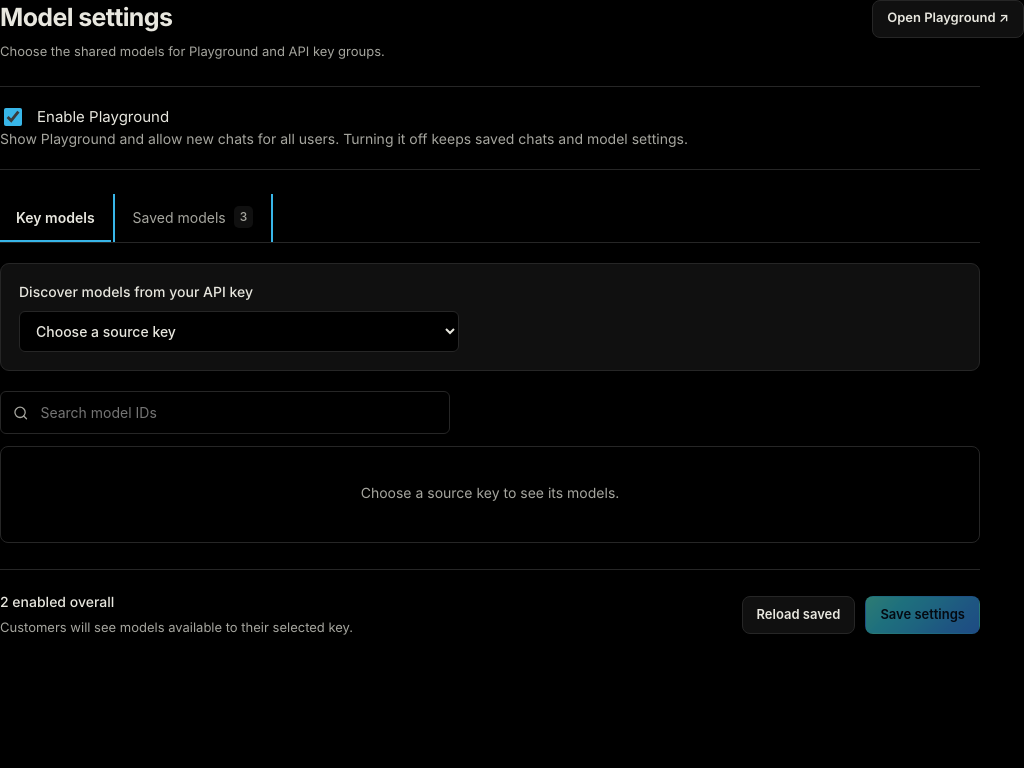
admin model settings › stages clearing identity independently from model enablement
The width and height of the screenshot is (1024, 768).
Click the tab "Saved models 3": (193, 218) x1=117 y1=194 x2=269 y2=242
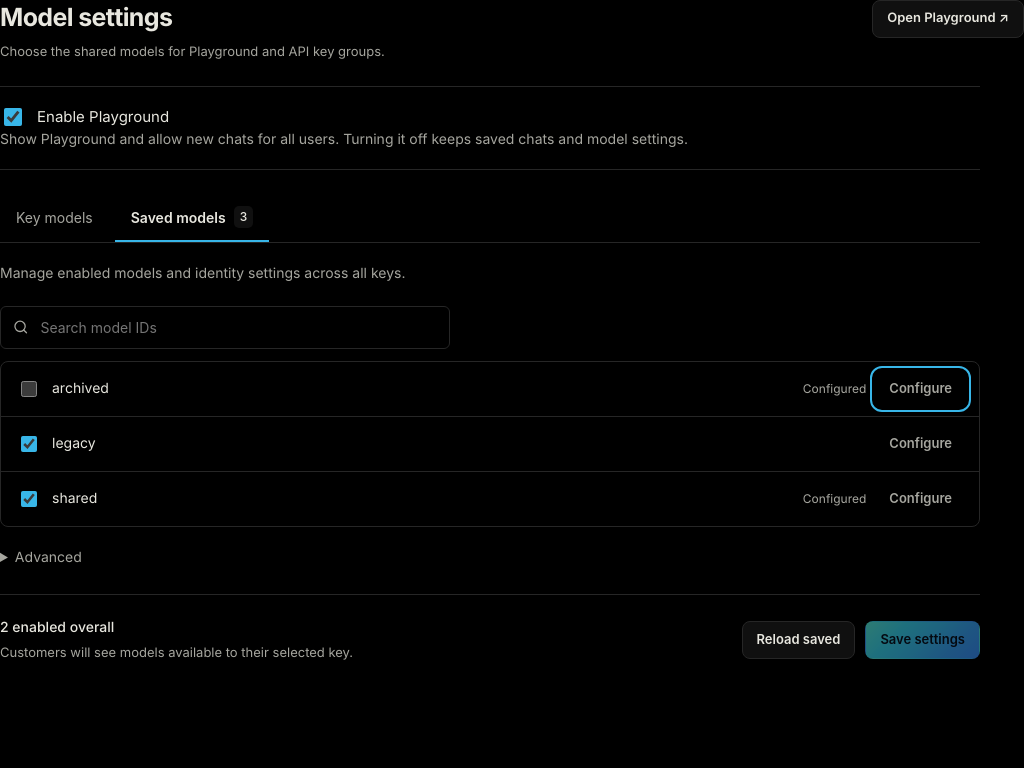
Click the button "Configure" in the row of "archived": (921, 389) x1=874 y1=370 x2=967 y2=408
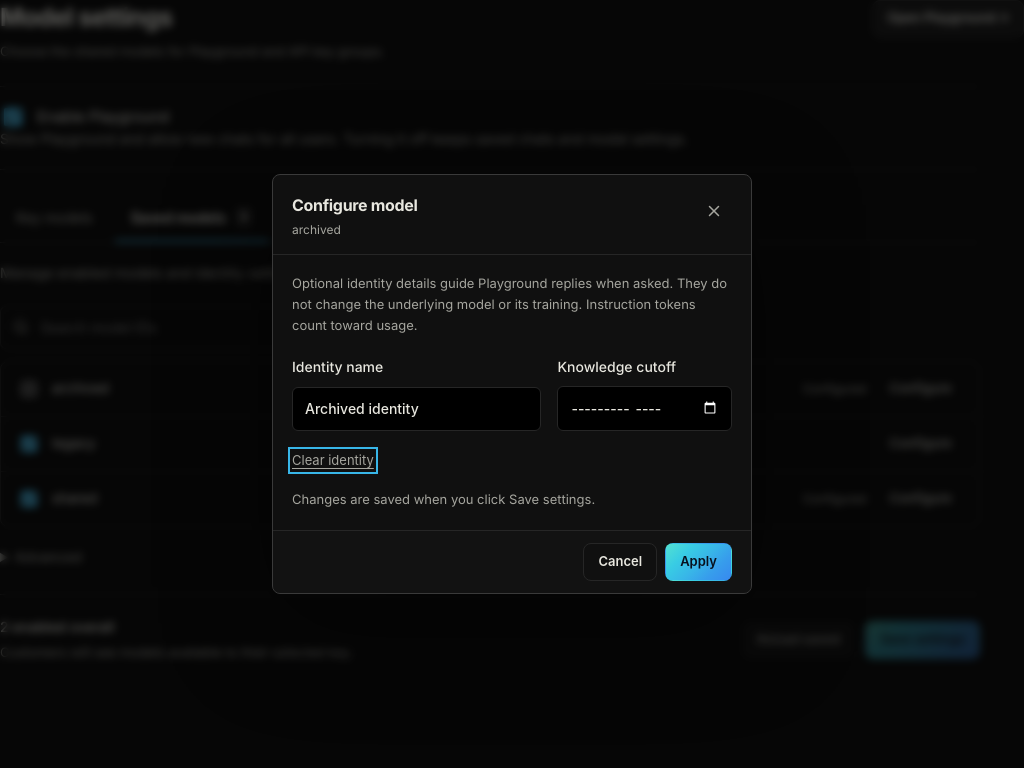
Click the button "Clear identity": (333, 460) x1=292 y1=450 x2=374 y2=470
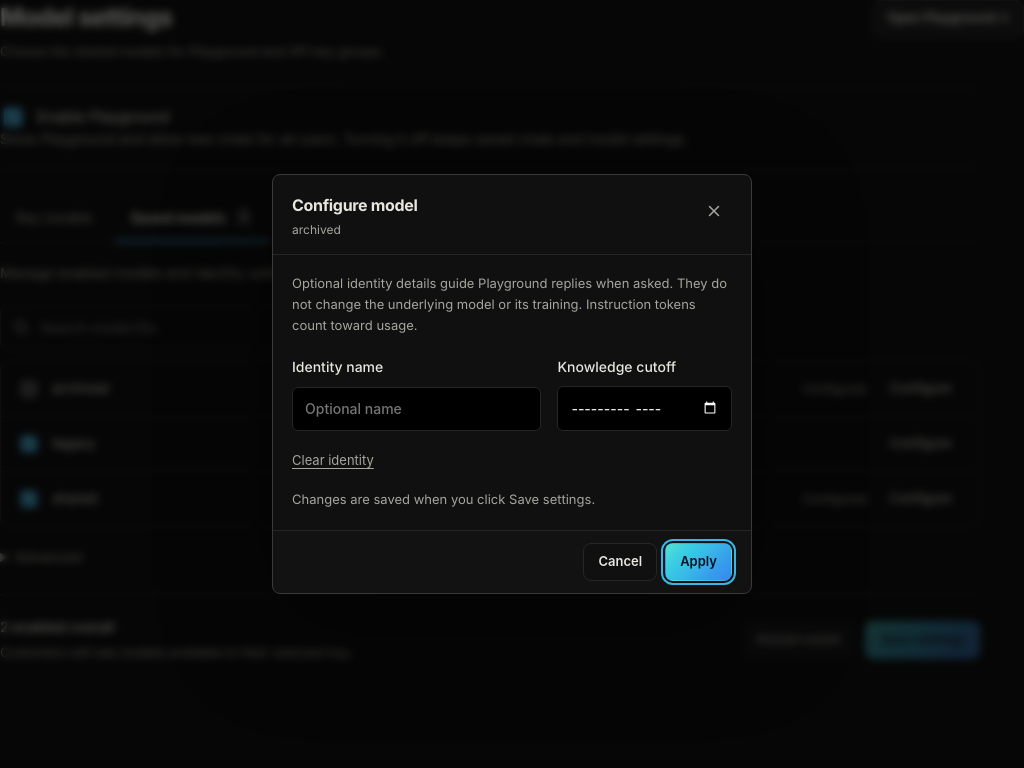
Click the button "Apply": (699, 562) x1=665 y1=543 x2=732 y2=581
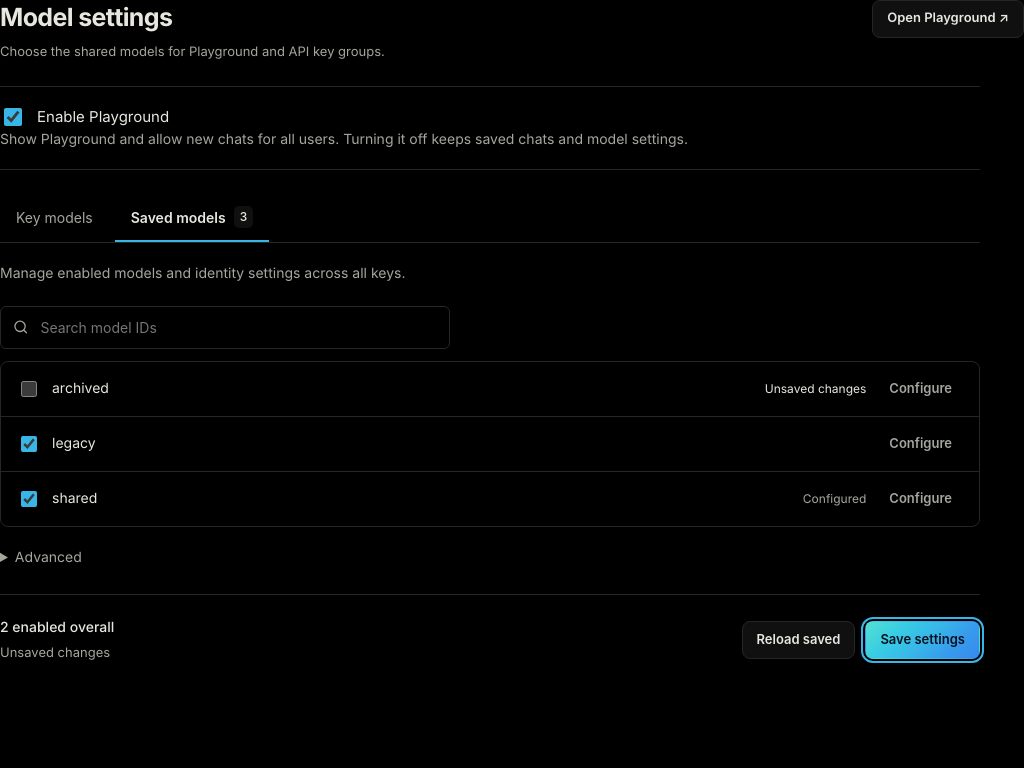
Check: the text "archived" is shown, box x1=52 y1=378 x2=109 y2=399
Check: the checkbox labelled "archived" is not checked, box x1=21 y1=381 x2=37 y2=397
Check: the element showing "archived Unsaved changes Configure" is shown, box x1=1 y1=362 x2=979 y2=416
Click the button "Save settings": (923, 640) x1=865 y1=621 x2=980 y2=659
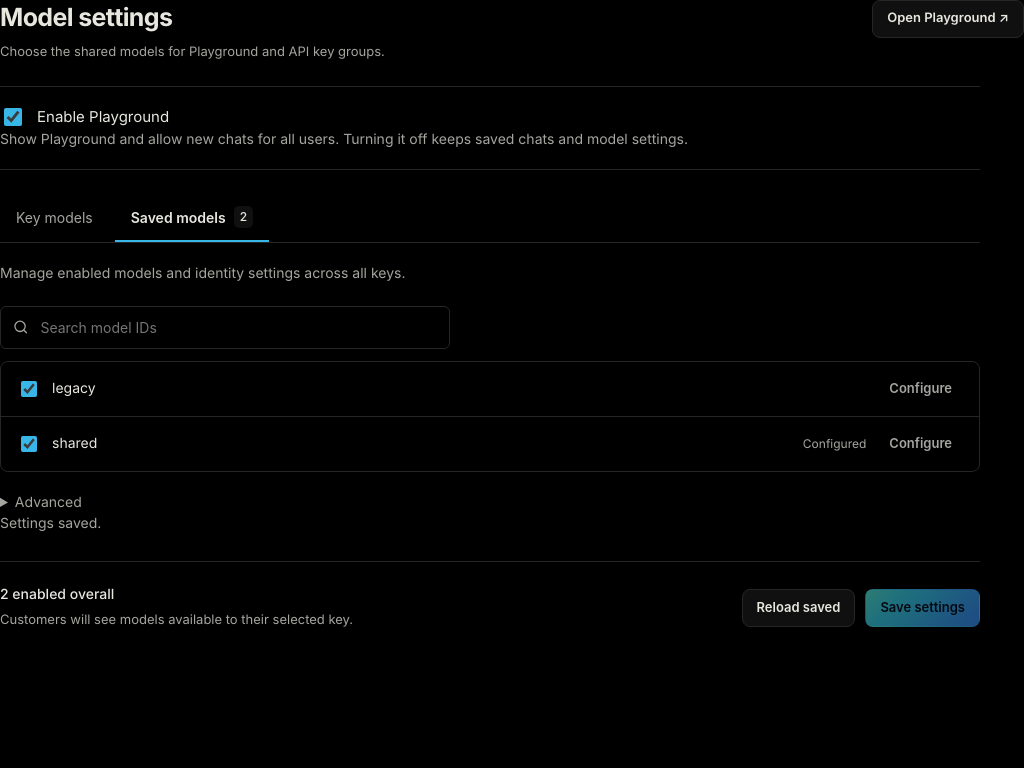
Check: the text "archived" is gone
